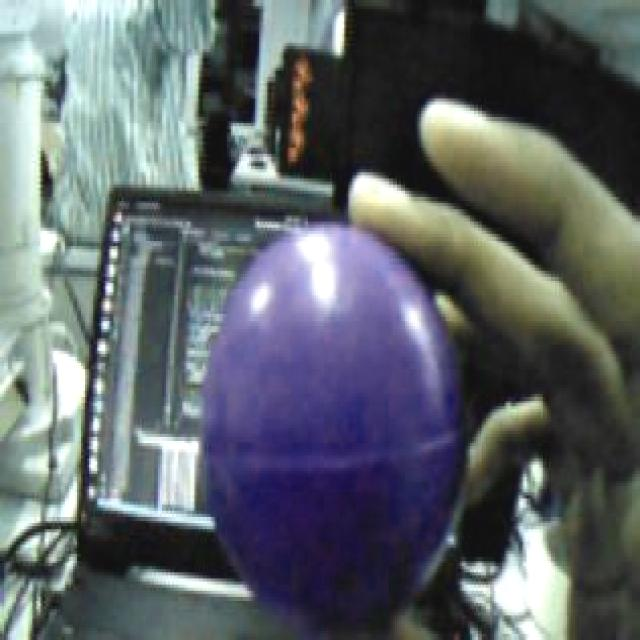BallPurple: (201, 221, 465, 634)
